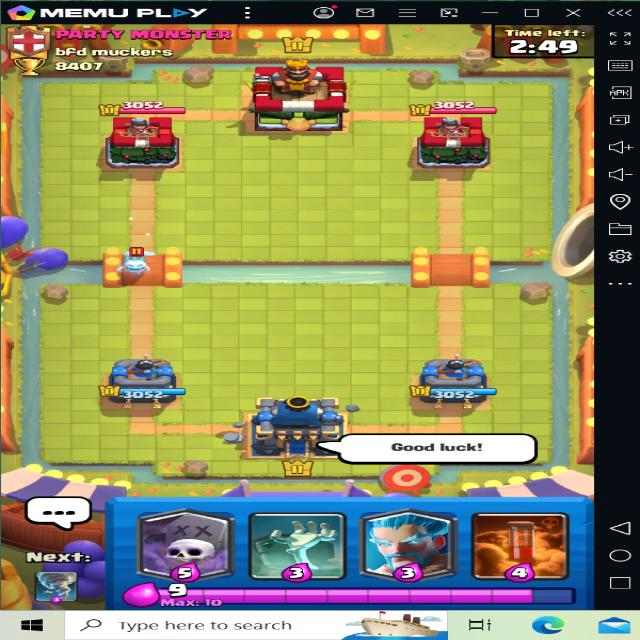ice-spirit: (104, 245, 157, 275)
